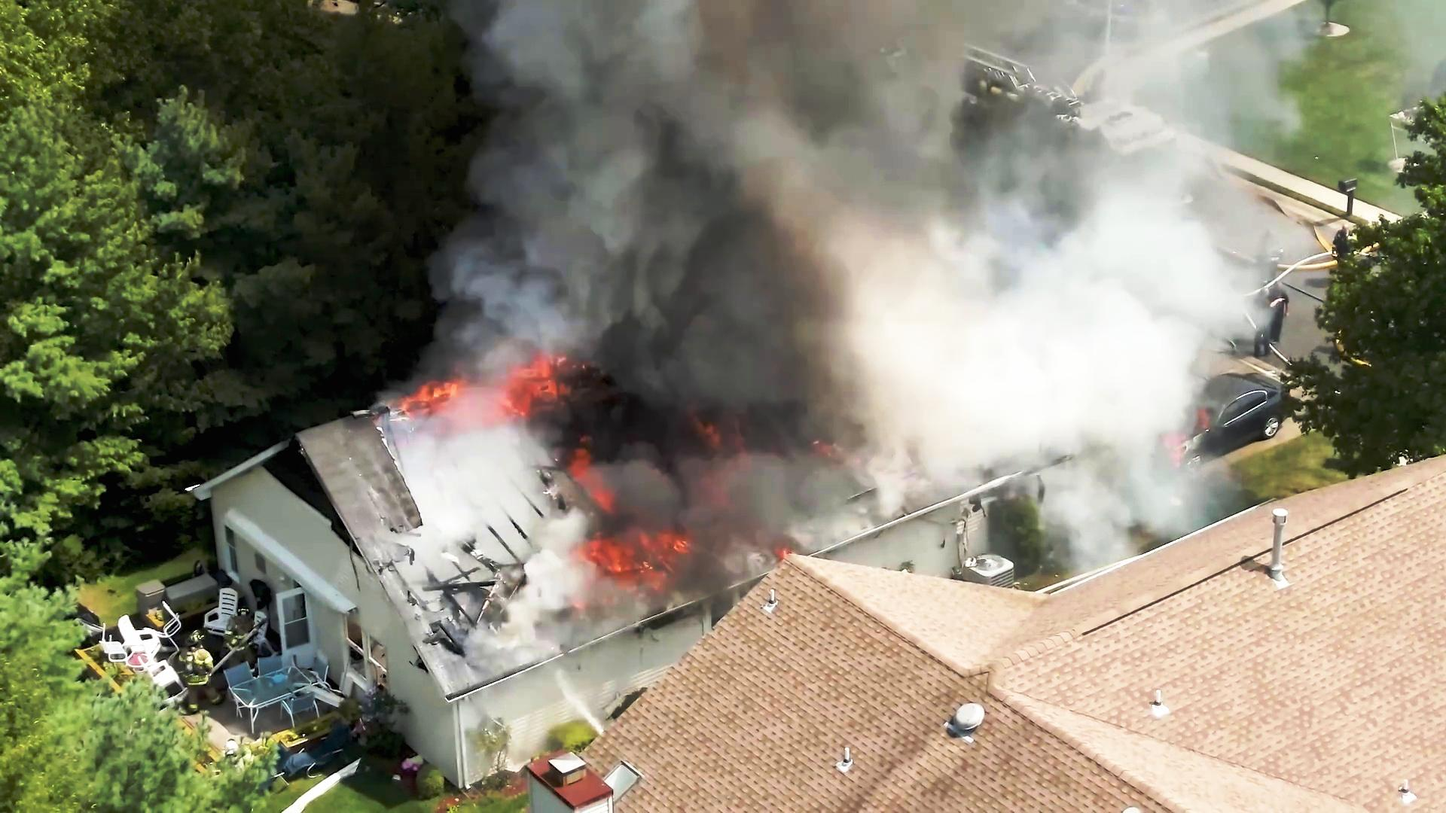fire: (386, 358, 563, 423), (588, 505, 694, 598)
smoke: (529, 0, 879, 356), (863, 11, 1172, 390)
